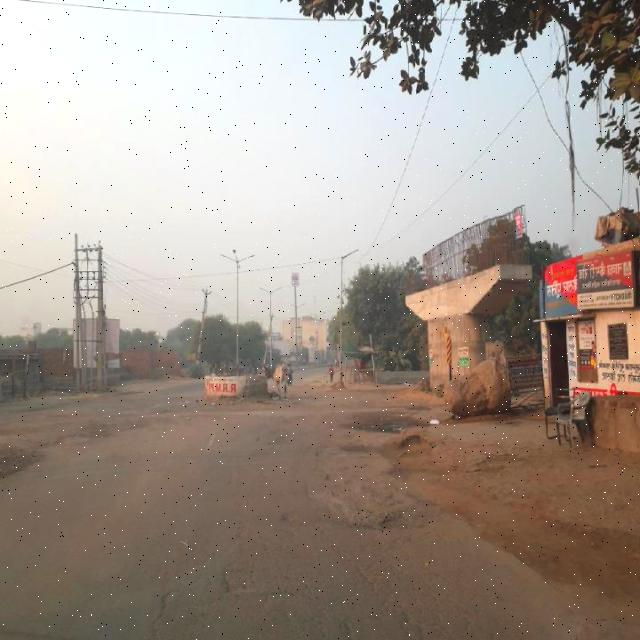D00: (349, 550, 423, 630), (139, 583, 182, 637)
D20: (192, 546, 371, 638)
D40: (284, 463, 444, 525)
